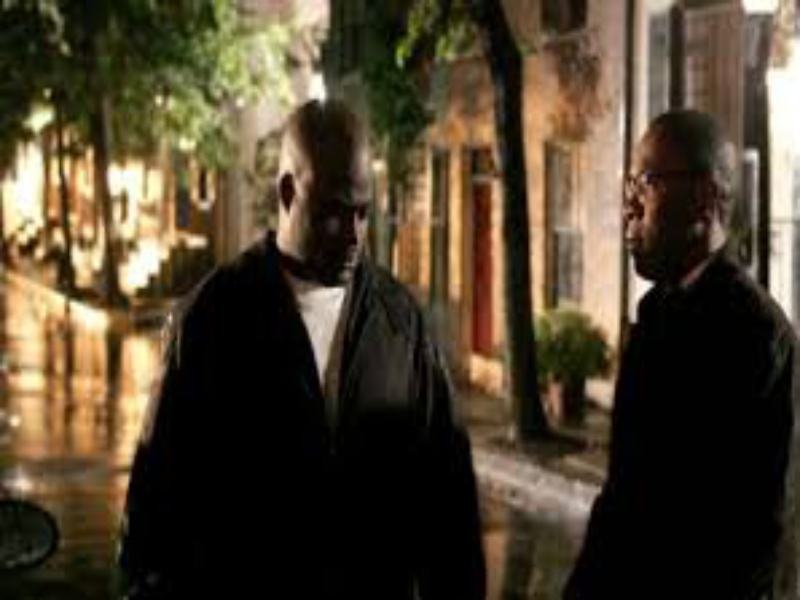TsisyArotava: (270, 109, 388, 291)
